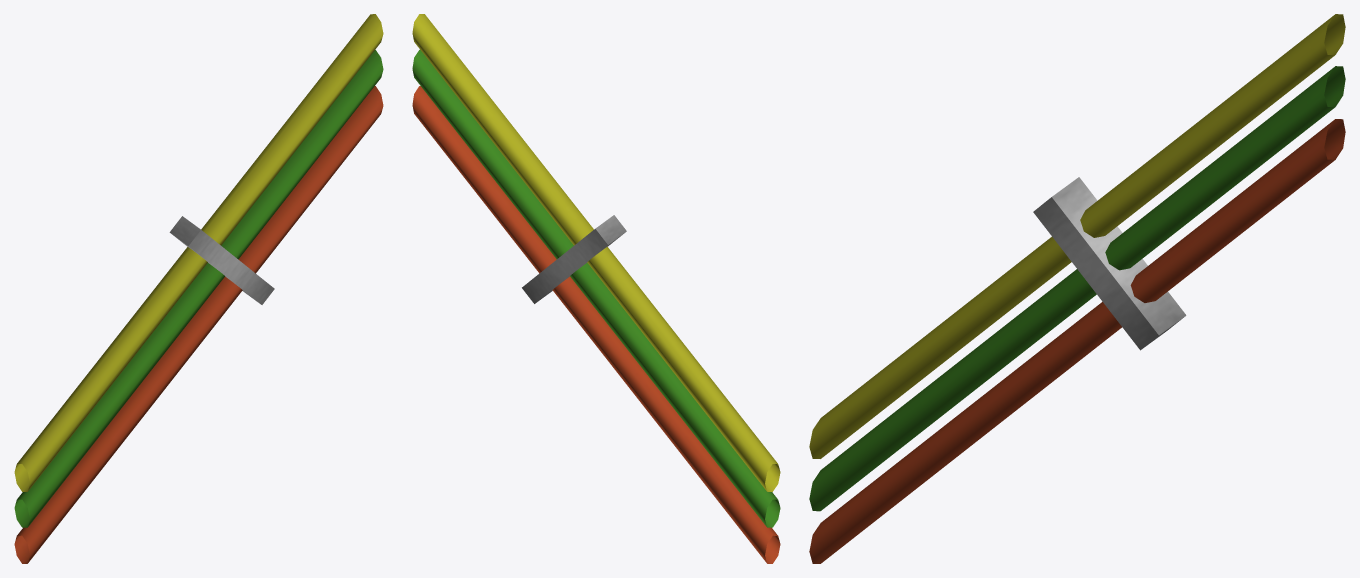
The model's file is PipeDiagonal1.FBX.
3 views of the same model, side by side, from view 1: azimuth 30°, elevation 25°; view 2: azimuth 150°, elevation 25°; view 3: azimuth 330°, elevation 25° (orthographic). The views are drawn at different scales.
Visible parts, largest first — view 1: Line001; view 2: Line001; view 3: Line001.
Boxes of the visible parts, x1,y1,x2,y2 form: Line001: [14, 14, 383, 563]; Line001: [412, 14, 780, 563]; Line001: [809, 14, 1345, 563].
Bounding box in the file's own units: 39.36 × 49.35 × 3.65.
1 material, 1 textured.
